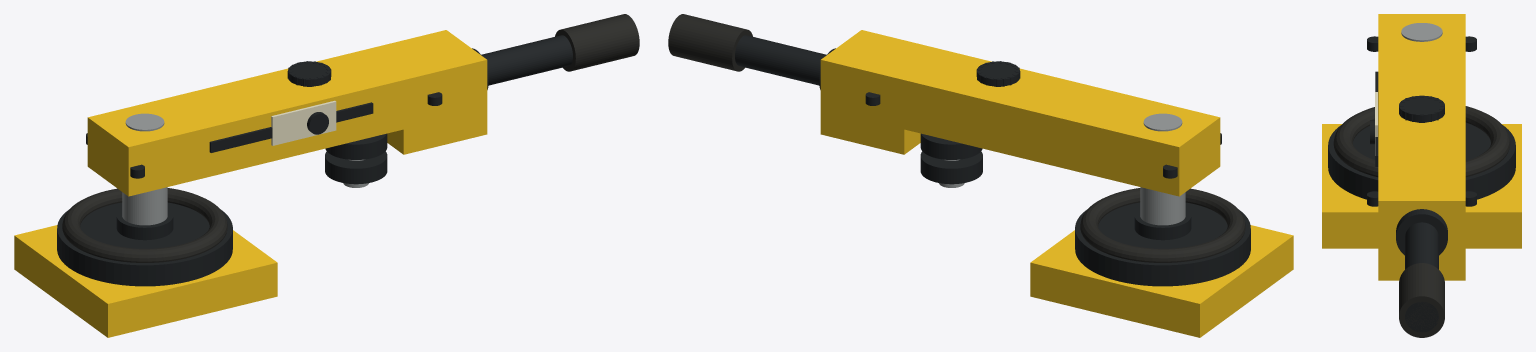
Rendered from bending pipa.glb.
3 renders of one model, left to right at view 1: azimuth 30°, elevation 25°; view 2: azimuth 150°, elevation 25°; view 3: azimuth 270°, elevation 25°, orthographic. The views are drawn at different scales.
Visible parts, largest first — view 1: Main Yellow Arm, Yellow Base, Main Black Bending Die, Upper Die Ring, Rubber Grip, Long Black Handle, Rear Arm Housing, Product Label, Follower Roller Lower, Main Bending Shaft, Arm Adjustment Slot, Follower Roller Upper (+3 smaller); view 2: Main Yellow Arm, Yellow Base, Main Black Bending Die, Rear Arm Housing, Upper Die Ring, Rubber Grip, Long Black Handle, Follower Roller Lower, Main Bending Shaft, Follower Roller Upper, Die Center, Adjustment Knob (+1 smaller); view 3: Main Yellow Arm, Yellow Base, Main Black Bending Die, Upper Die Ring, Rear Arm Housing, Rubber Grip, Long Black Handle, Handle Socket, Adjustment Knob, Die Top Shaft, Arm Adjustment Slot, Bolt (+3 smaller).
Boxes of the visible parts, <box> form: Main Yellow Arm: <box>87,30,487,196</box>; Yellow Base: <box>14,225,277,337</box>; Main Black Bending Die: <box>57,202,232,286</box>; Upper Die Ring: <box>62,188,227,262</box>; Rubber Grip: <box>555,14,639,71</box>; Long Black Handle: <box>481,35,572,85</box>; Rear Arm Housing: <box>387,81,487,154</box>; Product Label: <box>271,100,336,145</box>; Follower Roller Lower: <box>325,151,387,184</box>; Main Bending Shaft: <box>122,187,167,225</box>; Arm Adjustment Slot: <box>209,102,373,152</box>; Follower Roller Upper: <box>325,133,387,159</box>; Main Yellow Arm: <box>820,30,1220,196</box>; Yellow Base: <box>1030,225,1293,337</box>; Main Black Bending Die: <box>1075,202,1250,286</box>; Rear Arm Housing: <box>820,63,920,154</box>; Upper Die Ring: <box>1080,188,1245,262</box>; Rubber Grip: <box>668,14,752,71</box>; Long Black Handle: <box>735,35,826,85</box>; Follower Roller Lower: <box>920,151,982,184</box>; Main Bending Shaft: <box>1140,187,1185,225</box>; Follower Roller Upper: <box>920,133,982,159</box>; Die Center: <box>1134,209,1191,240</box>; Adjustment Knob: <box>977,61,1019,86</box>; Main Yellow Arm: <box>1378,14,1465,253</box>; Yellow Base: <box>1322,124,1521,248</box>; Main Black Bending Die: <box>1328,122,1515,199</box>; Upper Die Ring: <box>1333,106,1510,177</box>; Rear Arm Housing: <box>1378,201,1465,280</box>; Rubber Grip: <box>1399,263,1444,337</box>; Long Black Handle: <box>1405,222,1438,332</box>; Handle Socket: <box>1396,209,1447,255</box>; Adjustment Knob: <box>1399,95,1444,122</box>; Die Top Shaft: <box>1401,23,1442,41</box>; Arm Adjustment Slot: <box>1375,71,1378,166</box>; Bolt: <box>1367,36,1378,51</box>.
Size of the model in its own units: 11.56 by 3.48 by 3.3.
